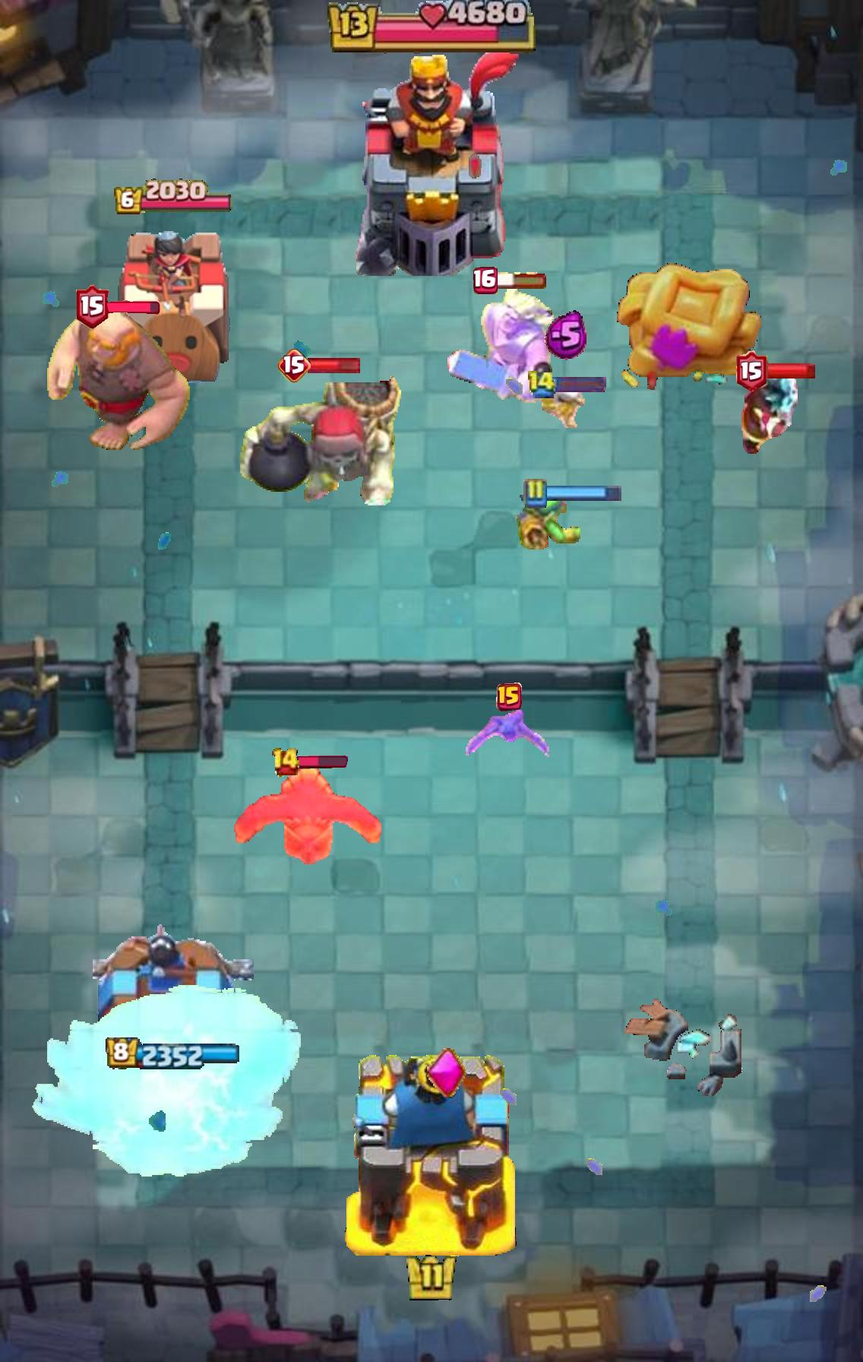bar: (494, 271, 548, 290), (308, 357, 361, 374), (106, 299, 160, 315), (764, 363, 816, 379), (296, 755, 348, 769)
bar-level: (76, 284, 109, 330), (736, 350, 768, 391), (278, 349, 312, 383), (271, 747, 300, 778), (496, 683, 522, 711), (473, 267, 498, 294)
